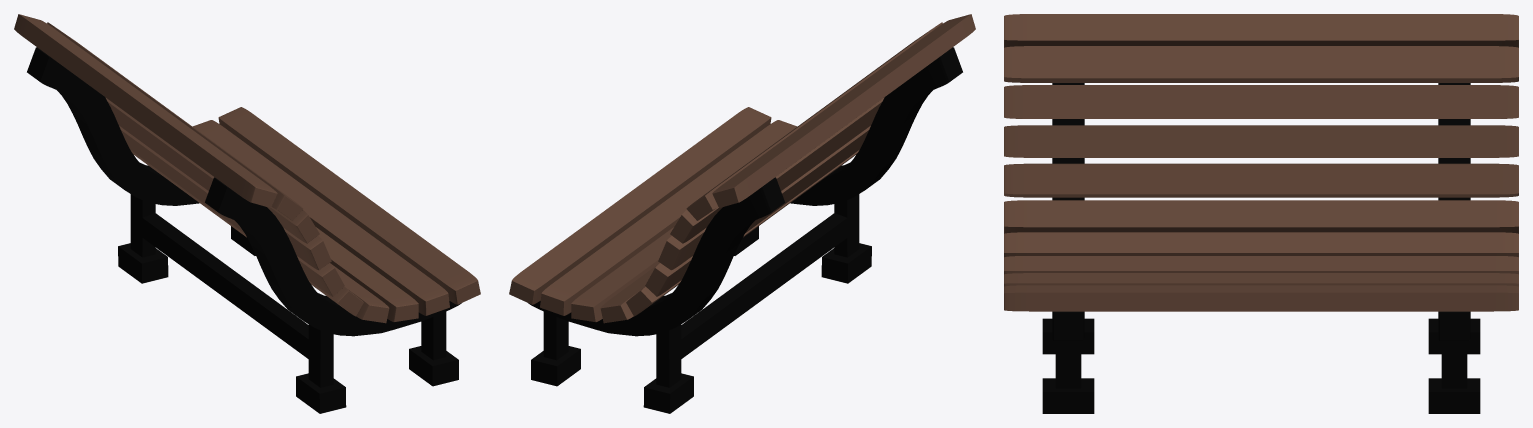
Rendered from bench.fbx.
The picture shows the model from 3 angles, left to right: view 1: azimuth 30°, elevation 25°; view 2: azimuth 150°, elevation 25°; view 3: azimuth 270°, elevation 25°; orthographic projection. The views are drawn at different scales.
Parts seen in each view (by area): view 1: bench; view 2: bench; view 3: bench.
Boxes of the visible parts, box(x1,y1,x2,y2) form: bench: box(14, 14, 480, 413); bench: box(509, 14, 975, 413); bench: box(1004, 14, 1518, 413).
Size of the model in its own units: 85.64 by 87.26 by 144.
